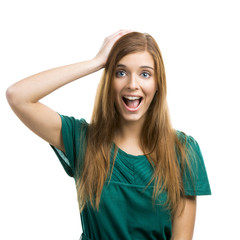teen: (103, 25, 160, 128)
